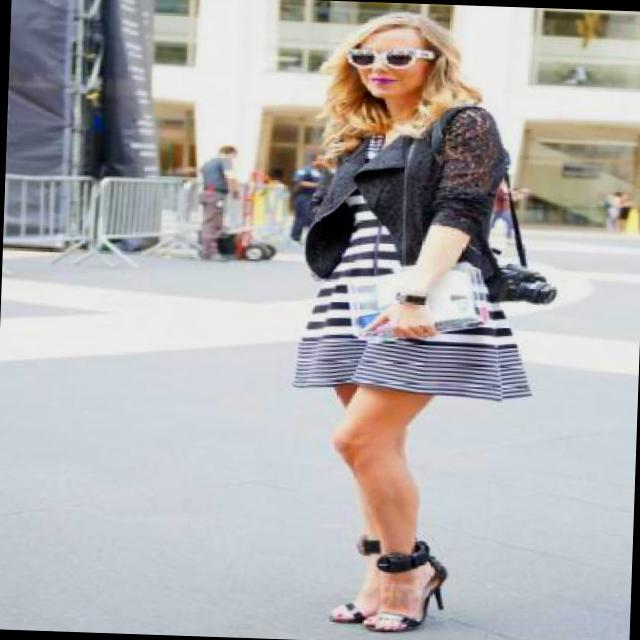Person: (233, 3, 572, 640)
